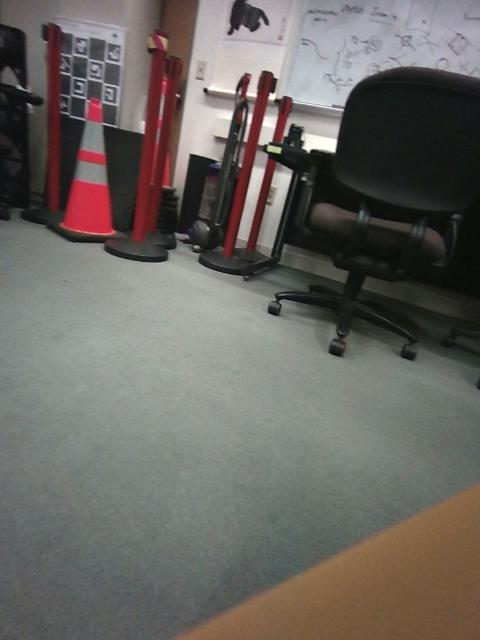block: (117, 302, 164, 367)
